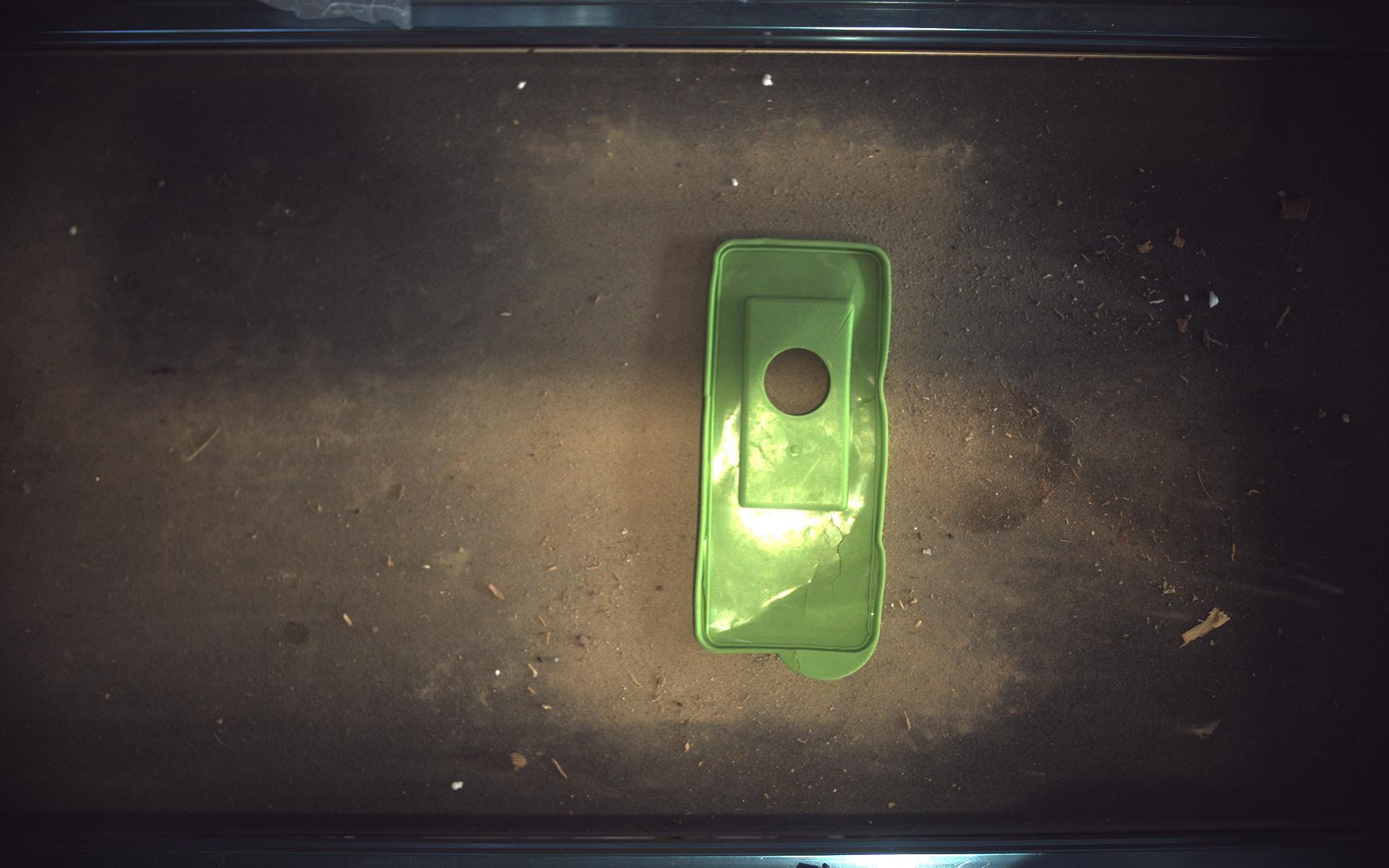plastic: (696, 238, 892, 681)
